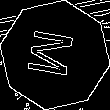M_E: (27, 28, 83, 82)
